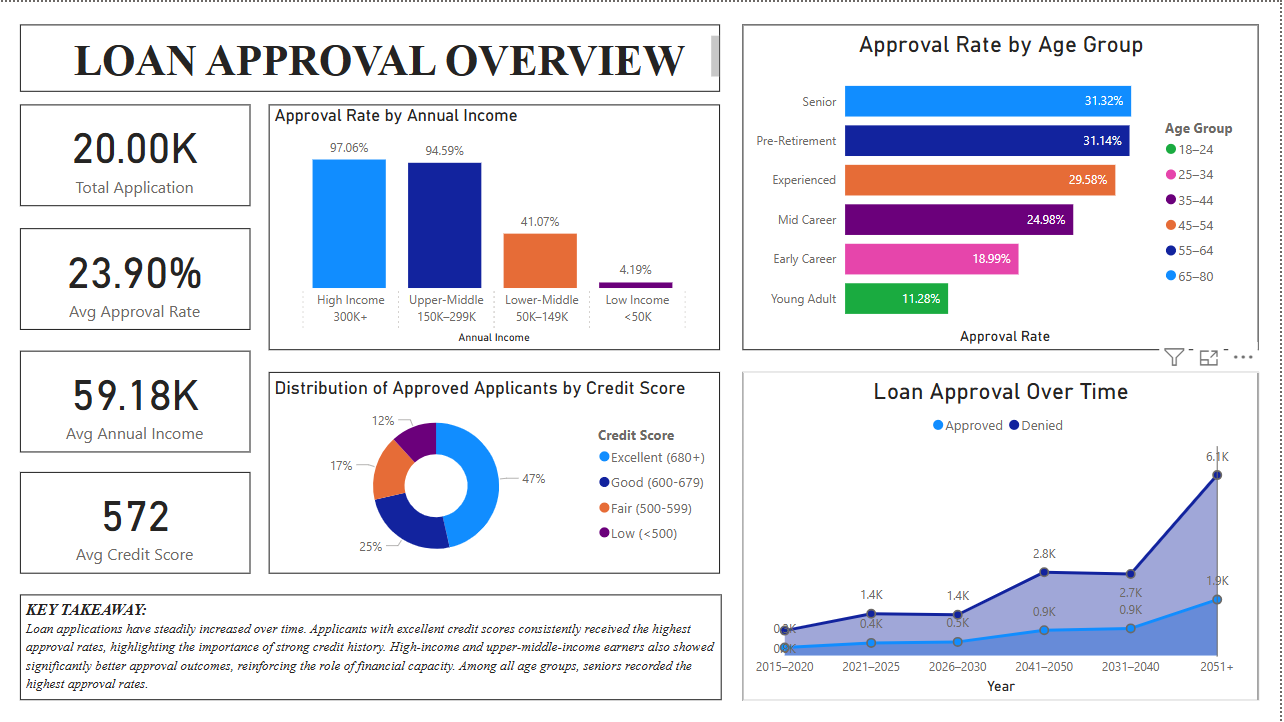

Layout of this report page (visuals, bound fields, positions):
{"tool":"powerbi","page":{"name":"Loan Approval Overview","canvas":[1280,720],"ordinal":0},"visuals":[{"type":"card","fields":{"Values":["Loan.Avg Credit Score"]},"box":[20.6,470,230,101.4],"z":0},{"type":"group","id":"g1","title":"Group 1","box":[269.1,102.9,451.4,245.7],"z":1000},{"type":"barChart","title":"Approval Rate by Age Group","fields":{"Y":["Loan.Approval Rate"],"Category":["Loan.AgeGroup2"],"Series":["Loan.AgeGroup"]},"box":[742.9,22.9,515.7,325.7],"z":2000},{"type":"areaChart","title":"Loan Approval Over Time","fields":{"Category":["Loan.YearGroup"],"Series":["Loan.LoanStatusLabel"],"Y":["CountNonNull(Loan.Age)"]},"box":[742.9,370,515.7,328.6],"z":3000},{"type":"textbox","box":[20,22.9,700,67.1],"z":4000},{"type":"textbox","box":[20.6,592.9,701.4,105.7],"z":5000},{"type":"columnChart","title":"Approval Rate by Annual Income","fields":{"Category":["Loan.IncomeGroup2","Loan.Income Group"],"Y":["Loan.Approval Rate"],"Series":["Loan.IncomeGroup2"]},"box":[269.1,102.9,451.4,245.7],"z":6000,"group":"g1"},{"type":"card","fields":{"Values":["CountNonNull(Loan.Index)"]},"box":[20.6,102.9,230,101.4],"z":6000},{"type":"card","fields":{"Values":["Loan.Approval Rate"]},"box":[20.6,225.7,230,101.4],"z":8000},{"type":"card","fields":{"Values":["Avg(Loan.AnnualIncome)"]},"box":[20.6,348.6,230,101.4],"z":9000},{"type":"donutChart","title":"Distribution of Approved Applicants by Credit Score","fields":{"Category":["Loan.CreditScoreTier"],"Y":["Loan.Approval Rate"]},"box":[268.6,370,451.4,201.4],"z":10000}]}

Visuals, with their boxes in screenshot pixels (x1, y1, x2, y2), scaled from the page's 1280x720 canvas onto the 1284x722 screenshot:
card - Loan.Avg Credit Score: x1=21 y1=471 x2=251 y2=573
"Group 1" group: x1=270 y1=103 x2=723 y2=350
"Approval Rate by Age Group" barChart: x1=745 y1=23 x2=1263 y2=350
"Loan Approval Over Time" areaChart: x1=745 y1=371 x2=1263 y2=701
textbox: x1=20 y1=23 x2=722 y2=90
textbox: x1=21 y1=595 x2=724 y2=701
"Approval Rate by Annual Income" columnChart: x1=270 y1=103 x2=723 y2=350
card - CountNonNull(Loan.Index): x1=21 y1=103 x2=251 y2=205
card - Loan.Approval Rate: x1=21 y1=226 x2=251 y2=328
card - Avg(Loan.AnnualIncome): x1=21 y1=350 x2=251 y2=451
"Distribution of Approved Applicants by Credit Score" donutChart: x1=269 y1=371 x2=722 y2=573
